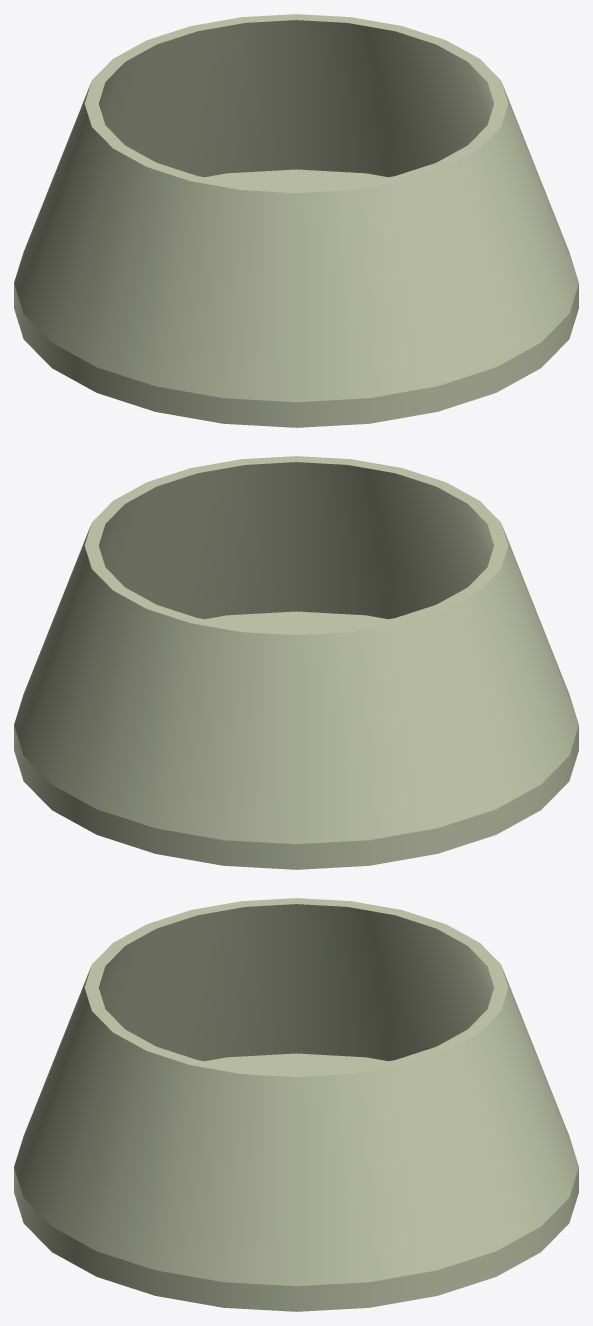
The model's file is rotanev_stowage_s2_1.obj.
3 views of the same model, one above another, from view 1: azimuth 30°, elevation 25°; view 2: azimuth 150°, elevation 25°; view 3: azimuth 270°, elevation 25° (orthographic).
Visible parts, largest first — view 1: base1fairing, base1; view 2: base1fairing, base1; view 3: base1fairing, base1.
Part boxes in pixels (x1=…): base1fairing: x1=14, y1=14, x2=578, y2=402; base1: x1=14, y1=169, x2=578, y2=427; base1fairing: x1=14, y1=456, x2=578, y2=844; base1: x1=14, y1=611, x2=578, y2=869; base1fairing: x1=14, y1=898, x2=578, y2=1286; base1: x1=14, y1=1053, x2=578, y2=1311.
Bounding box in the file's own units: 2.5 × 1 × 2.5.
